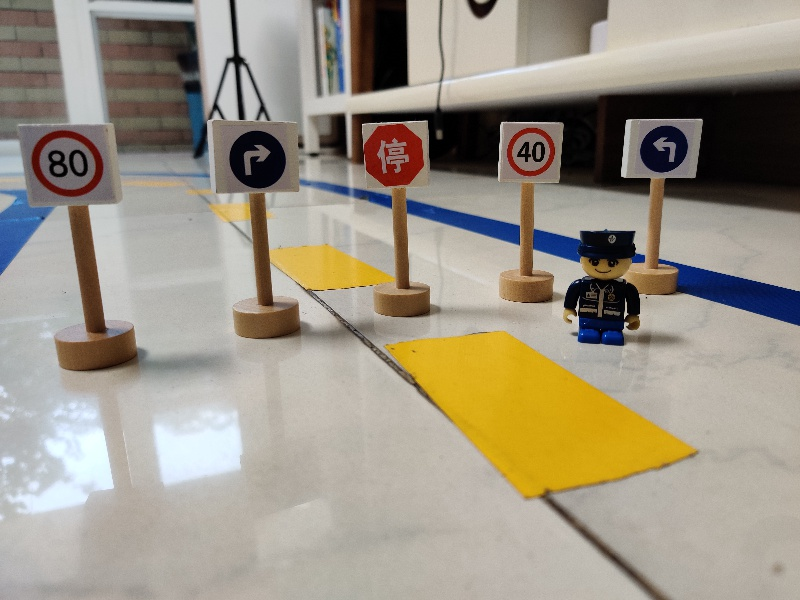limit_40: (494, 119, 565, 186)
limit_80: (11, 120, 126, 210)
person: (560, 227, 642, 349)
stop: (358, 121, 433, 190)
turn_left: (619, 115, 706, 181)
turn_right: (205, 117, 302, 195)
